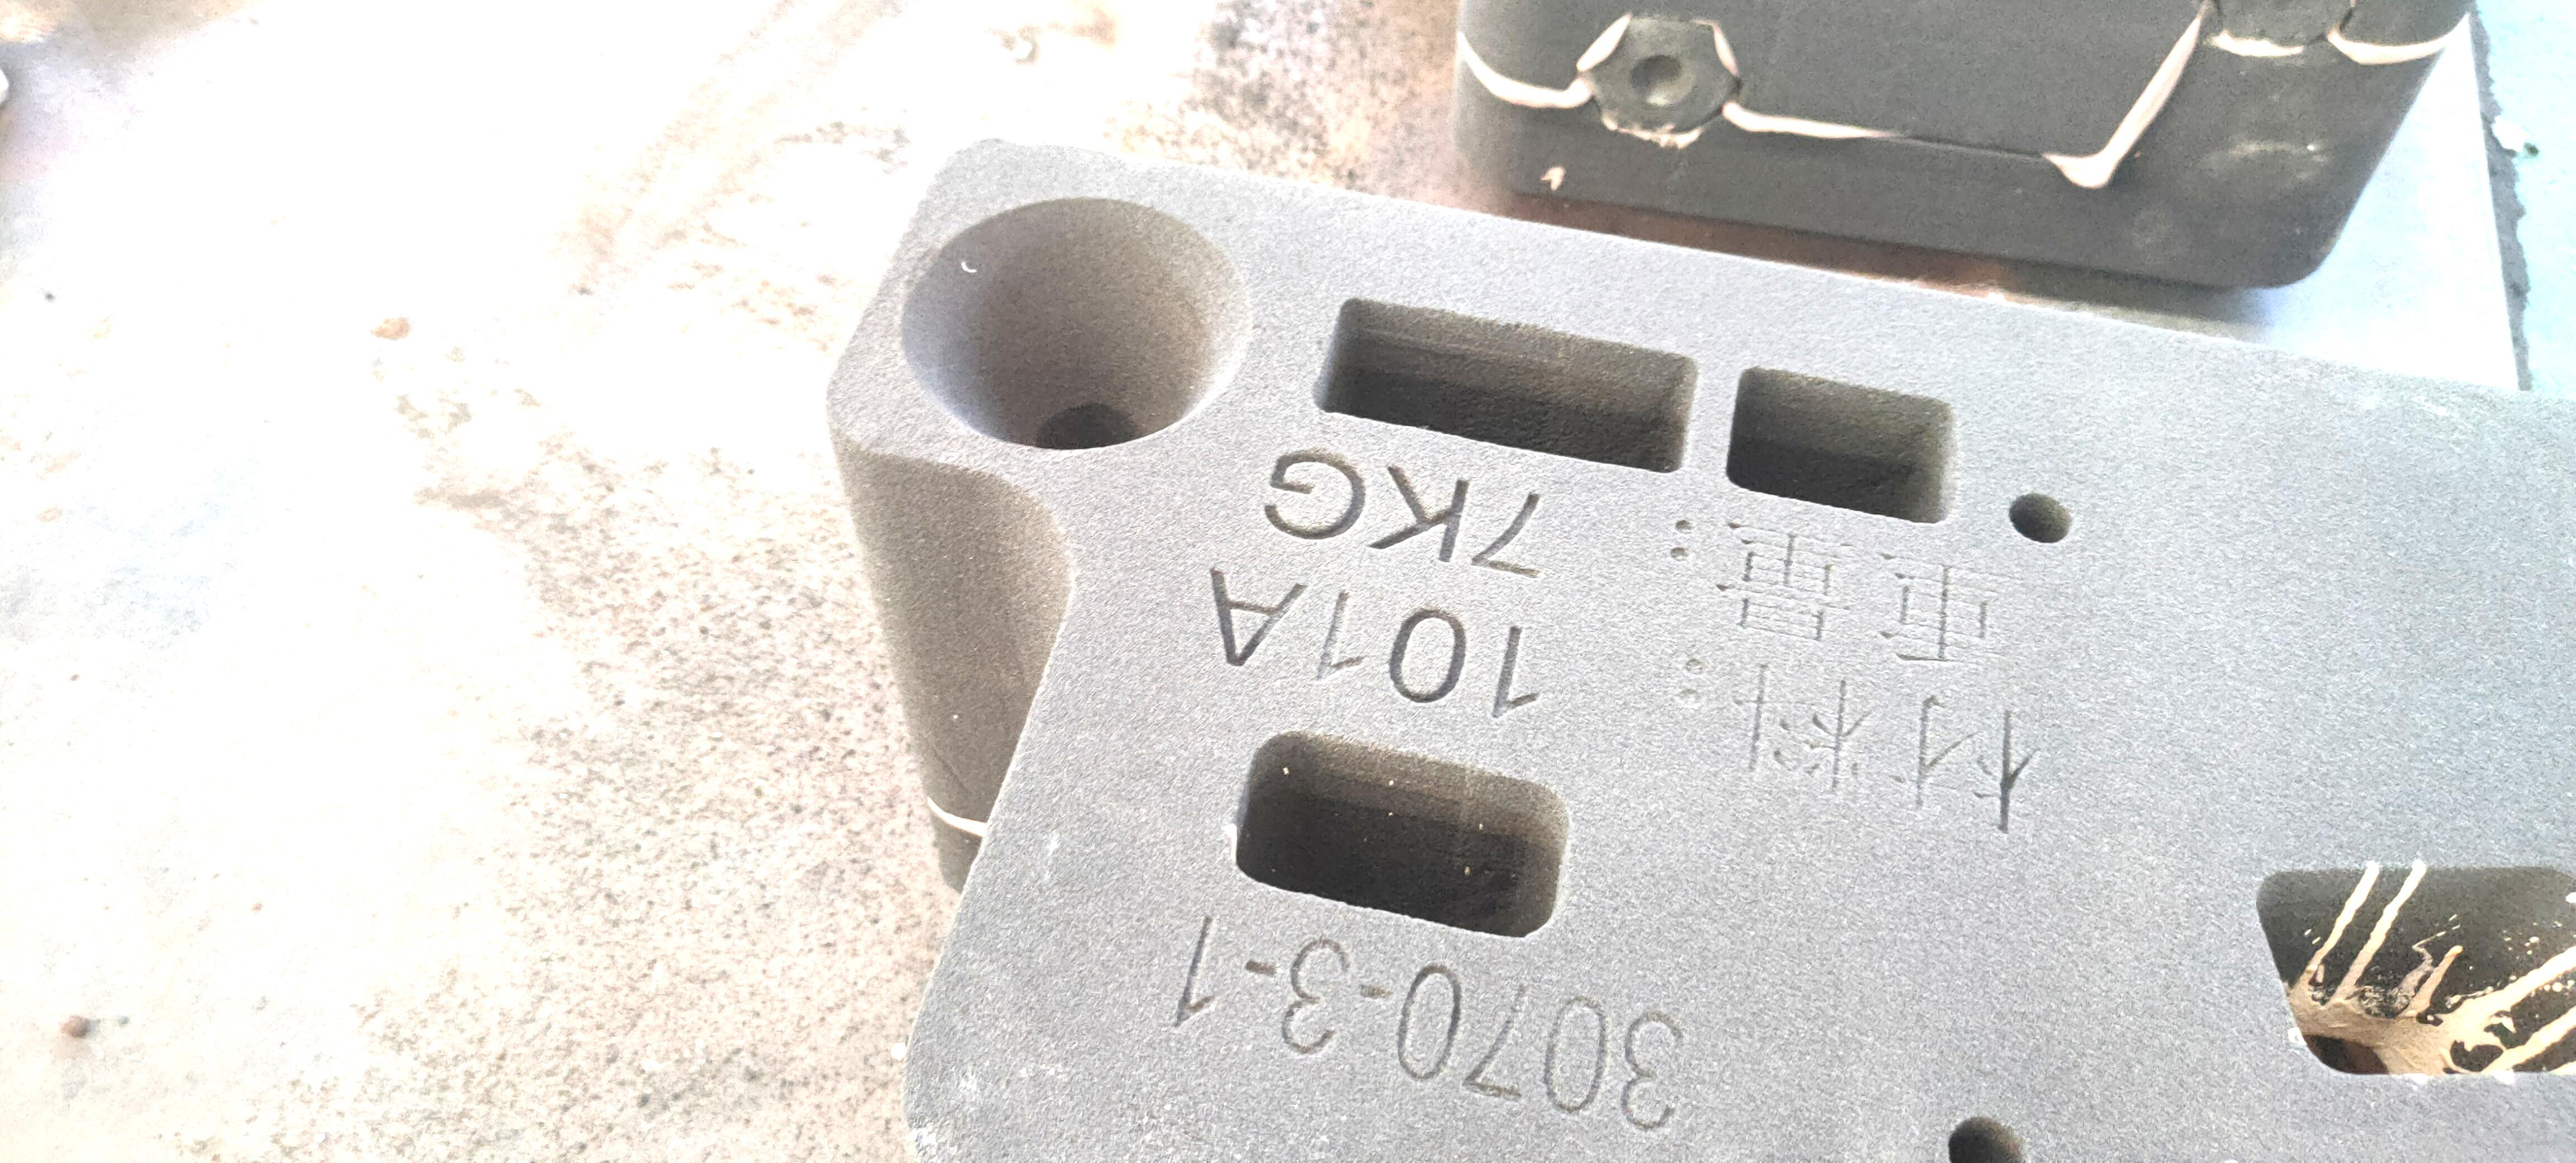pouring hole: (900, 194, 1250, 452)
